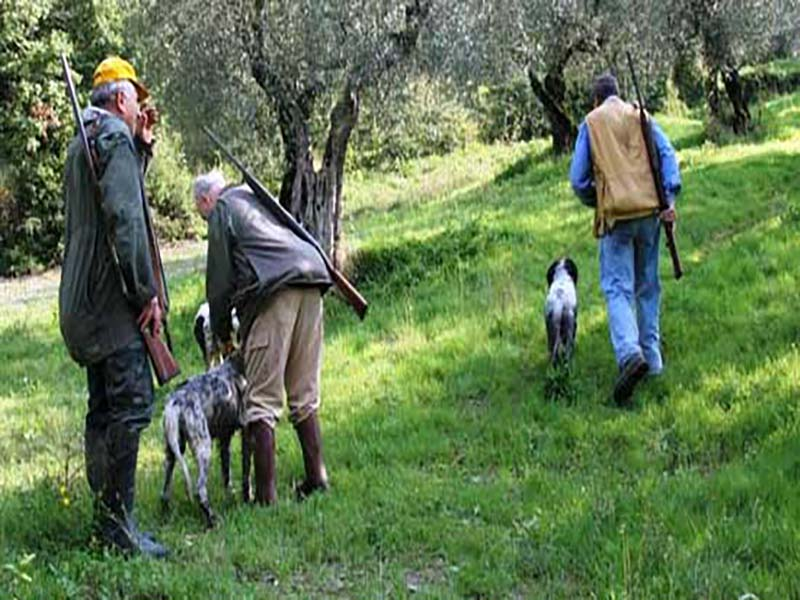cacciatore: (45, 43, 157, 564), (571, 65, 685, 408), (200, 151, 340, 360)
cane da caccia: (145, 349, 258, 527), (532, 252, 592, 397)
